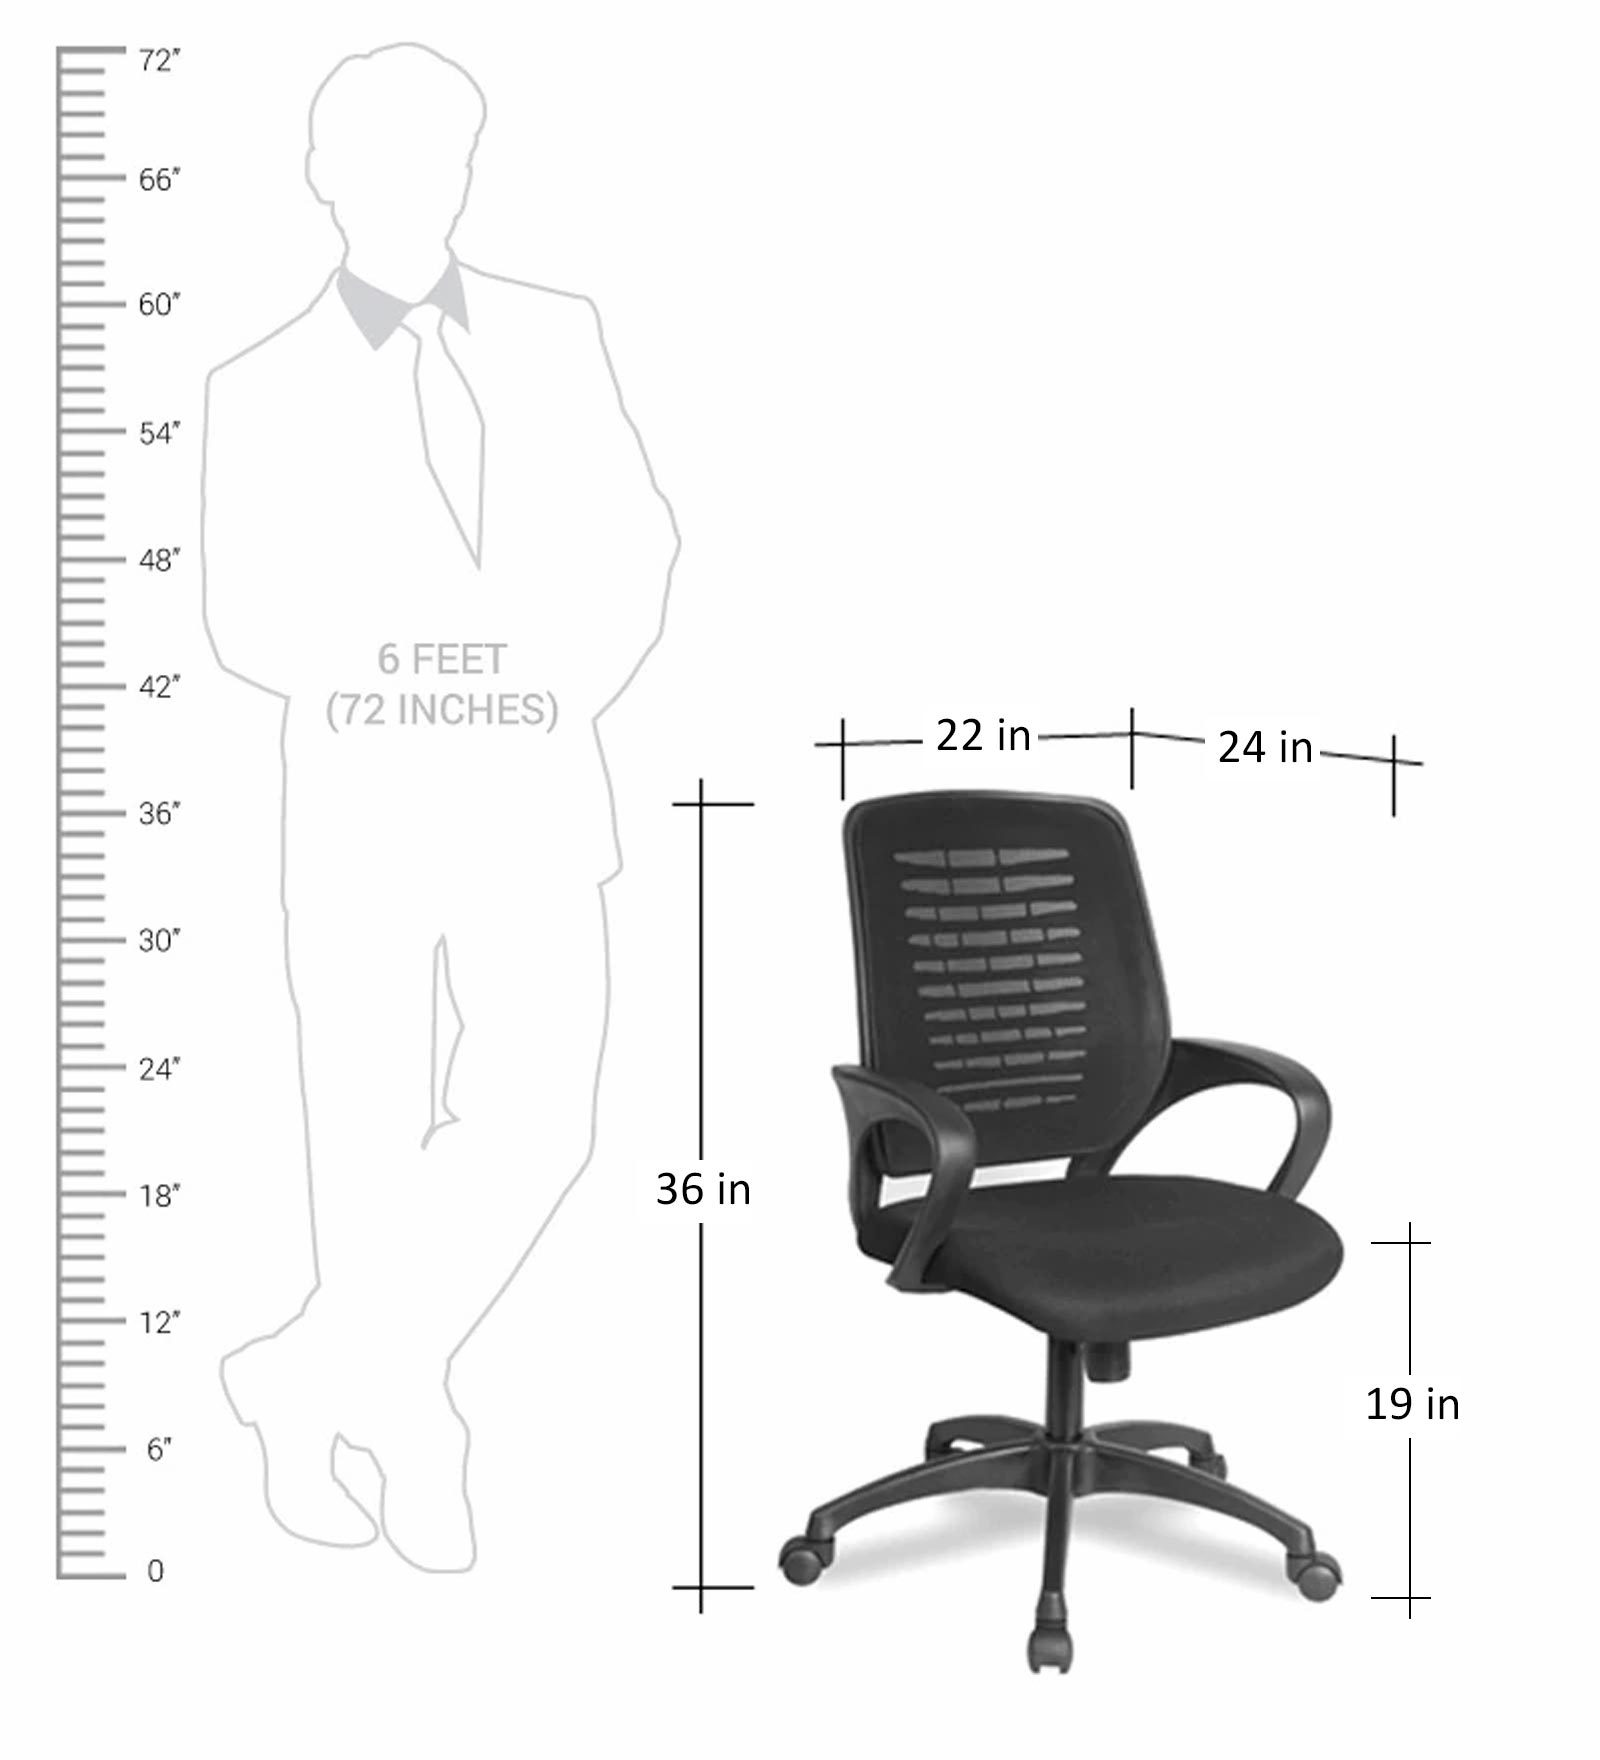Trendz Ergonomic Chair in Black Colour by VOF: (818, 776, 1356, 1689)
